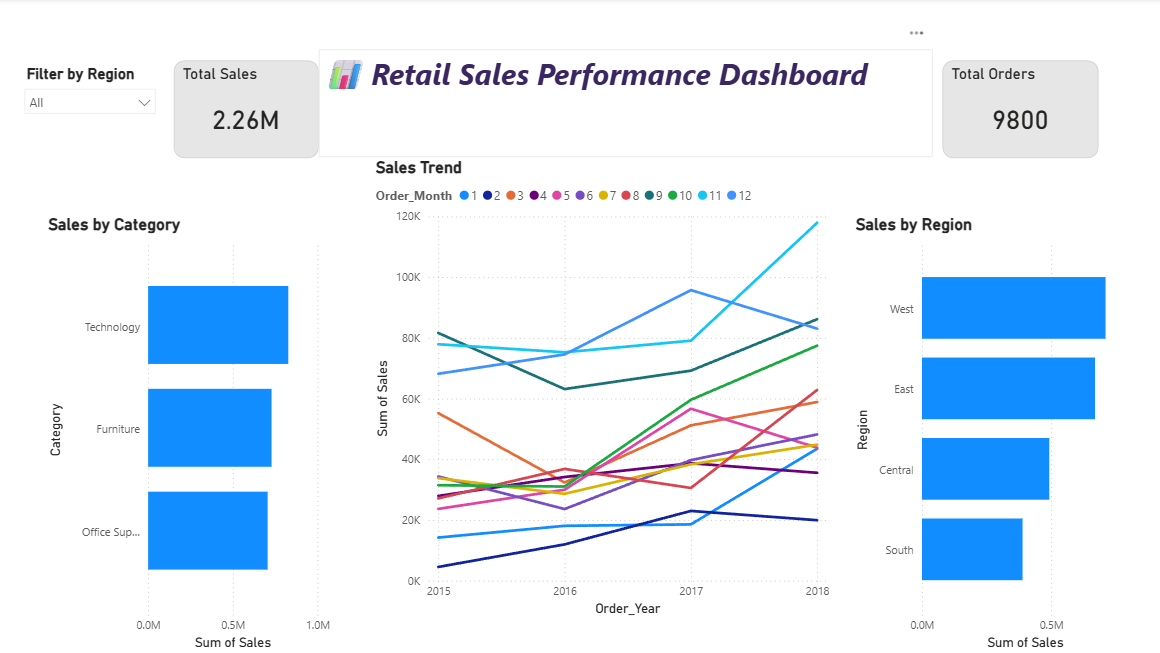

What the dashboard file says about the page in this screenshot:
{"tool":"powerbi","page":{"name":"Page 1","canvas":[1280,720],"ordinal":0},"visuals":[{"type":"card","title":"Total Sales","fields":{"Values":["Sum(sales_data.Sales)"]},"box":[190.7,68.6,159.2,107],"z":0},{"type":"card","title":"Total Orders","fields":{"Values":["CountNonNull(sales_data.Order ID)"]},"box":[1034.7,68.6,171.5,107],"z":1000},{"type":"clusteredBarChart","title":"Sales by Category","fields":{"Category":["sales_data.Category"],"Y":["Sum(sales_data.Sales)"]},"box":[48,237.4,319.7,483],"z":2000},{"type":"barChart","title":"Sales by Region","fields":{"Y":["Sum(sales_data.Sales)"],"Category":["sales_data.Region"]},"box":[934.5,237.4,323.8,483],"z":3000},{"type":"lineChart","title":"Sales Trend","fields":{"Y":["Sum(sales_data.Sales)"],"Category":["sales_data.Order_Year"],"Series":["sales_data.Order_Month"]},"box":[407.5,175.6,507.7,507.7],"z":4000},{"type":"textbox","box":[349.9,56.3,673.8,119.4],"z":5000},{"type":"slicer","fields":{"Values":["sales_data.Region","sales_data.Category"]},"box":[16.5,68.6,164.7,168.8],"z":6000}]}

Visuals, with their boxes in screenshot pixels (x1, y1, x2, y2), scaled from the page's 1280x720 canvas onto the 1160x653 screenshot:
"Total Sales" card: l=173, t=62, r=317, b=159
"Total Orders" card: l=938, t=62, r=1093, b=159
"Sales by Category" clusteredBarChart: l=44, t=215, r=333, b=652
"Sales by Region" barChart: l=847, t=215, r=1140, b=652
"Sales Trend" lineChart: l=369, t=159, r=829, b=620
textbox: l=317, t=51, r=928, b=159
slicer - sales_data.Region x sales_data.Category: l=15, t=62, r=164, b=215
